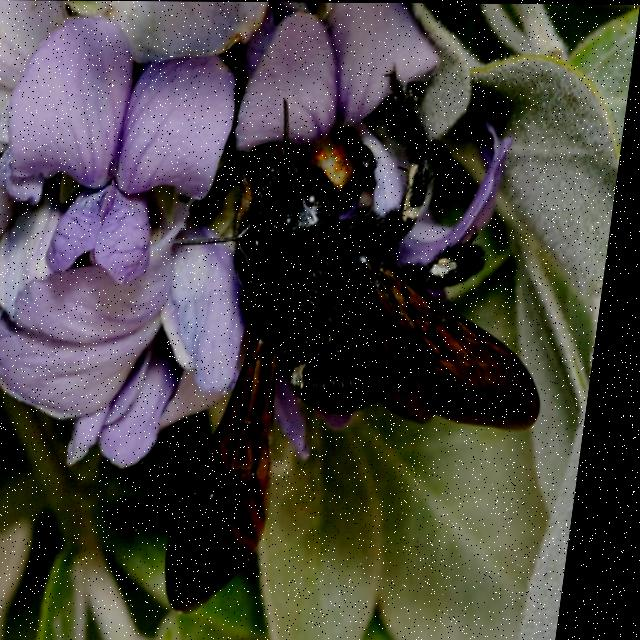Xylocopa: (133, 48, 599, 616)
